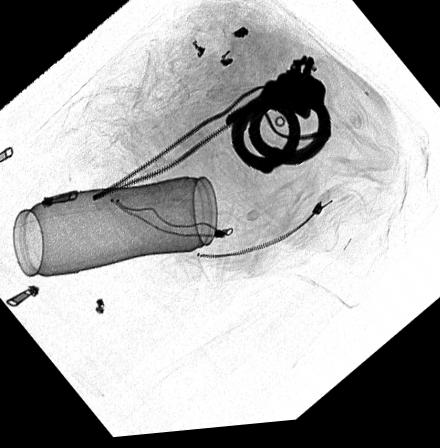HandCuffs: (223, 61, 332, 182)
